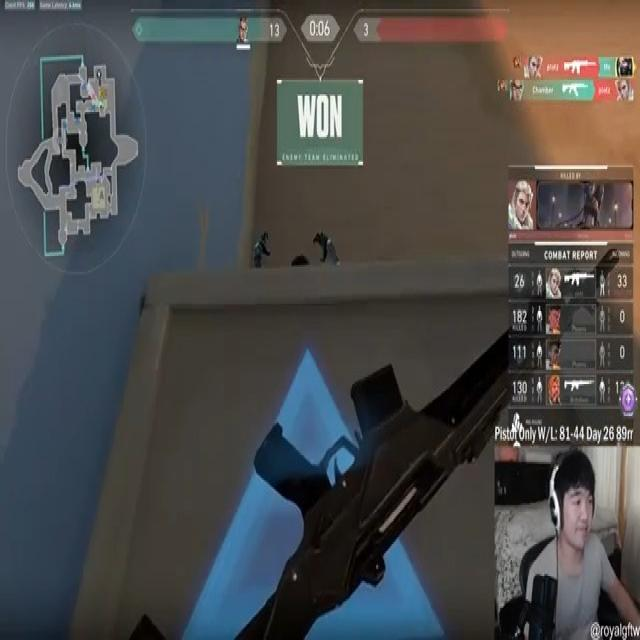gun: (201, 230, 623, 640)
